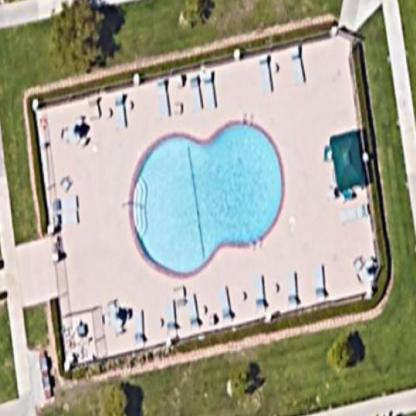pool: (129, 106, 287, 281)
